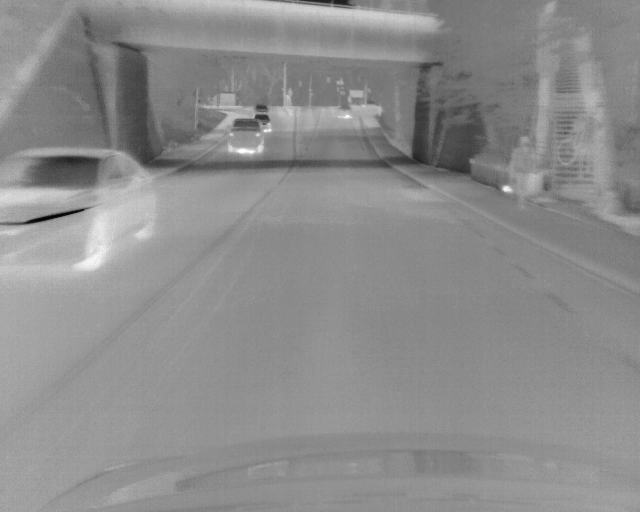car: (1, 146, 159, 270), (229, 119, 265, 156), (254, 114, 273, 133), (335, 103, 352, 120), (253, 103, 269, 115)
people: (504, 135, 534, 207)
